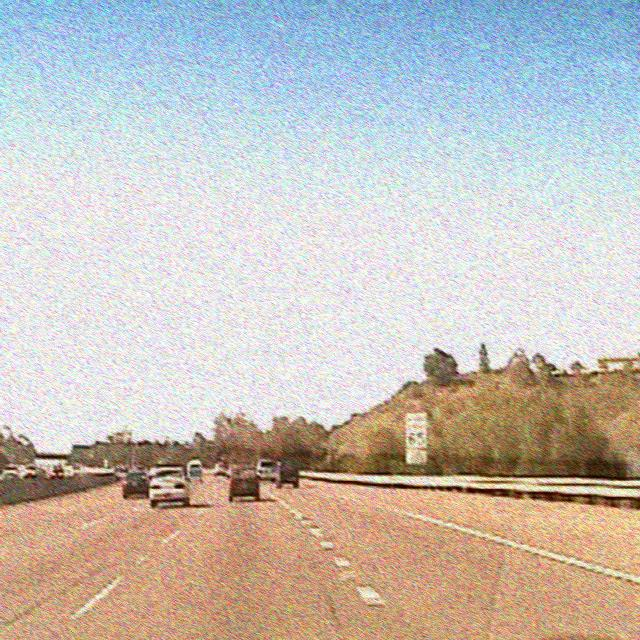speedLimit65: (406, 411, 426, 446)
